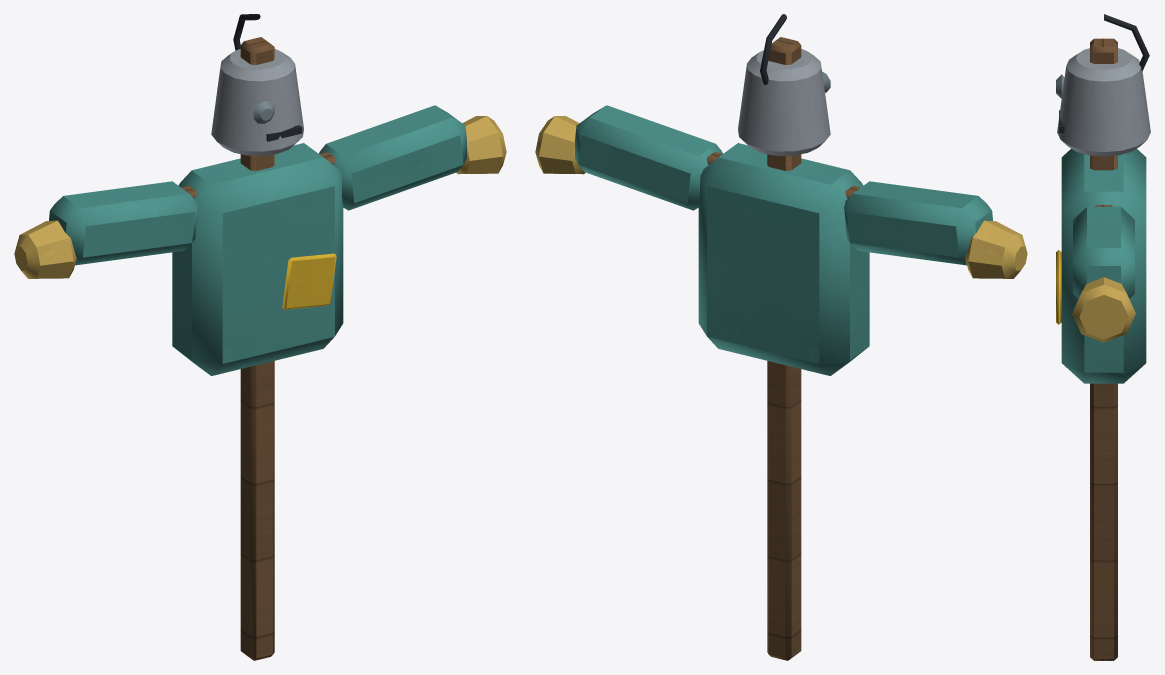
File: scarecrow.glb
3 views of the same model, side by side, from view 1: azimuth 30°, elevation 25°; view 2: azimuth 150°, elevation 25°; view 3: azimuth 270°, elevation 25° (orthographic).
Visible parts, largest first — view 1: scarecrow.001; view 2: scarecrow.001; view 3: scarecrow.001.
Boxes of the visible parts, bbox=[...] form: scarecrow.001: bbox=[14, 14, 506, 660]; scarecrow.001: bbox=[535, 14, 1027, 660]; scarecrow.001: bbox=[1056, 14, 1150, 660].
Size of the model in its own units: 1.94 by 2.51 by 0.3363.
8 materials, 8 textured.
